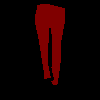pantaloni: (35, 3, 65, 84)
